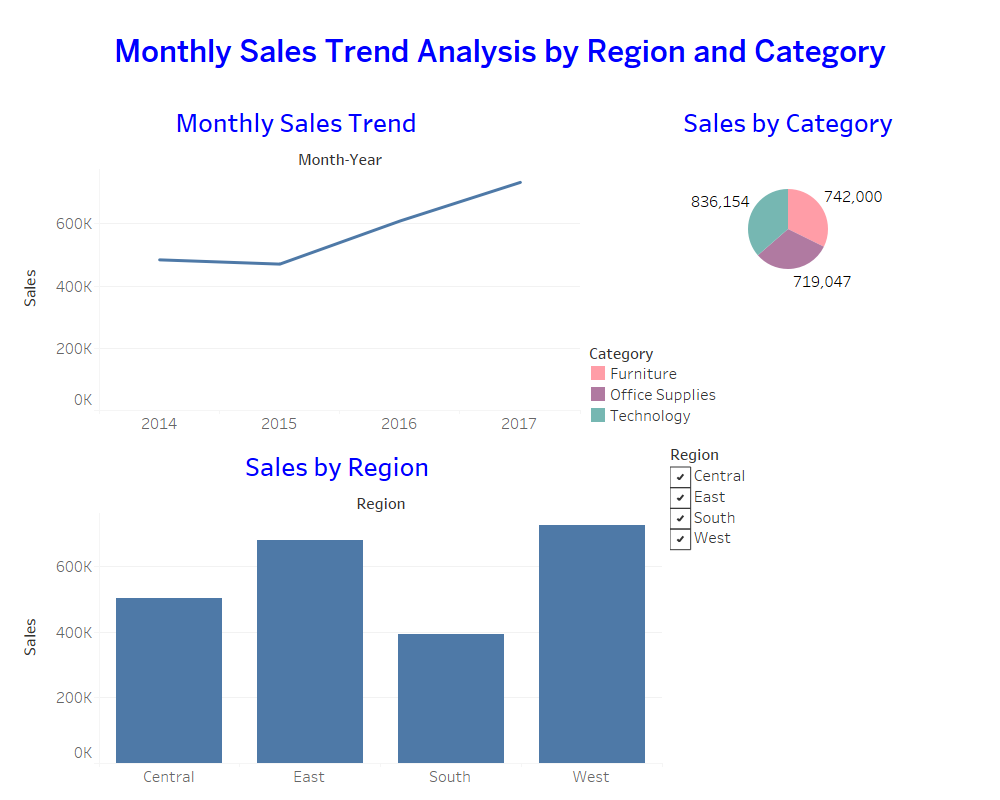

This screenshot's page, from the dashboard's own definition file:
{"tool":"tableau","page":{"name":"Dashboard 1","canvas":[1000,800],"ordinal":0},"visuals":[{"type":"title","box":[8,8,984,87]},{"type":"worksheet","title":"Monthly Sales Trend","mark":"Automatic","rows":["Sales"],"cols":["Calculation_668784564986908672"],"box":[8,95,576,344]},{"type":"worksheet","title":"Sales by Category","mark":"Pie","box":[584,95,408,242]},{"type":"legend","title":"Sales by Category","param":"[federated.1q8abqx00sxa3n18ynyep0362mk9].[none:Category:nk]","box":[584,337,408,102]},{"type":"worksheet","title":"Sales by Region","mark":"Automatic","rows":["Sales"],"cols":["Region"],"box":[8,439,658,353]},{"type":"filter","title":"Monthly Sales Trend","param":"[federated.1q8abqx00sxa3n18ynyep0362mk9].[none:Region:nk]","box":[666,439,326,353]}]}

Visuals, with their boxes in screenshot pixels (x1, y1, x2, y2), scaled from the page's 1000x800 canvas onto the 1000x800 screenshot:
title: Rect(8, 8, 992, 95)
"Monthly Sales Trend" worksheet: Rect(8, 95, 584, 439)
"Sales by Category" worksheet (Pie marks): Rect(584, 95, 992, 337)
"Sales by Category" legend: Rect(584, 337, 992, 439)
"Sales by Region" worksheet: Rect(8, 439, 666, 792)
"Monthly Sales Trend" filter: Rect(666, 439, 992, 792)
